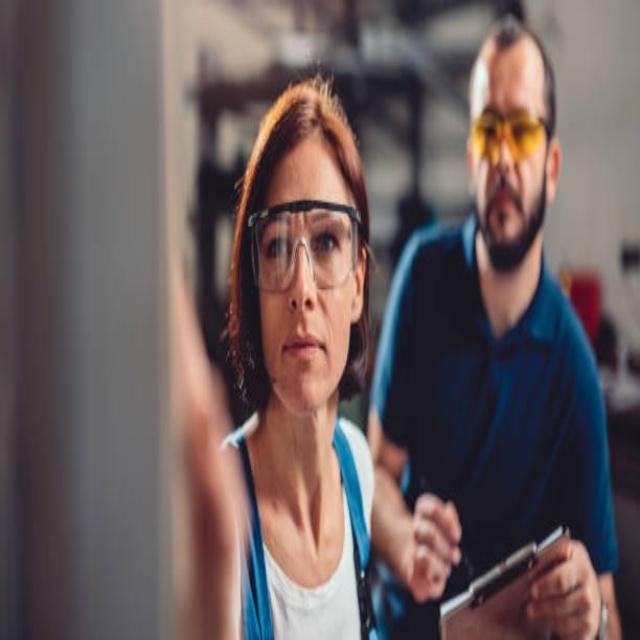Gafas: (247, 203, 361, 292), (469, 111, 549, 166)
Sin_guantes: (525, 532, 600, 640), (404, 489, 462, 601)
Sin_mascara: (272, 320, 329, 392), (483, 176, 526, 244)
